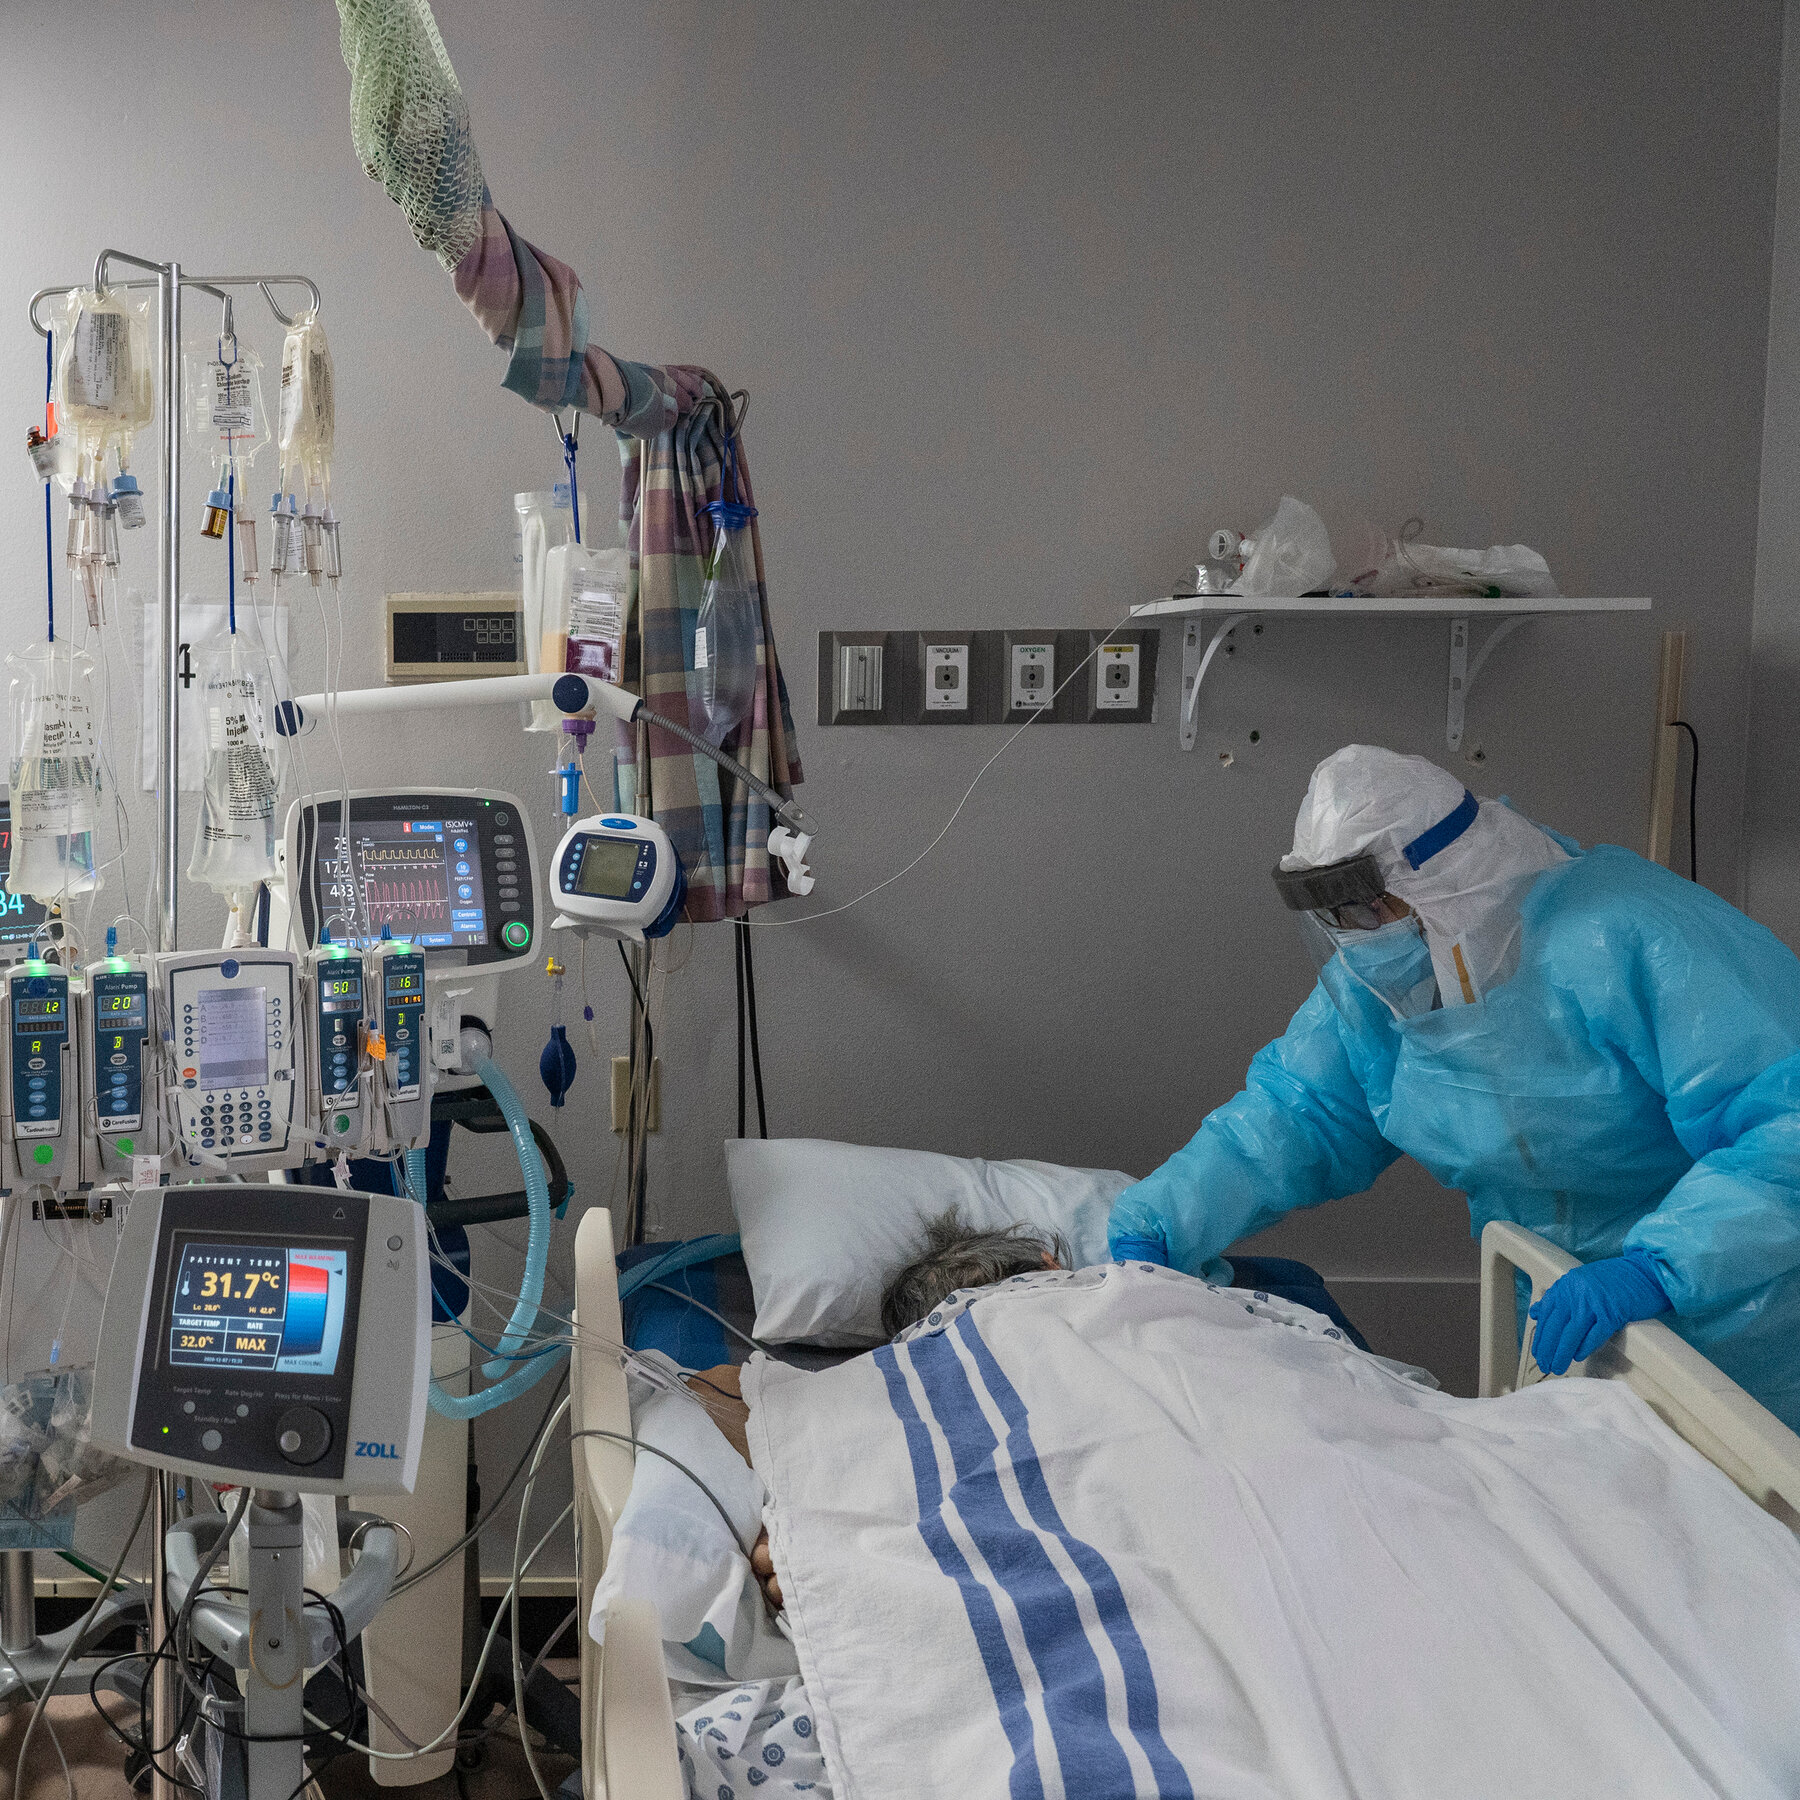bedrail: (1475, 1220, 1800, 1563), (567, 1204, 691, 1800)
bedside_monitor: (90, 1180, 434, 1496)
breathing_tube: (421, 1021, 732, 1425)
countertop: (1125, 573, 1655, 739)
hospital_bed: (571, 1134, 1800, 1800)
infusion_pump: (1, 938, 434, 1191)
iv_pole: (25, 249, 347, 1800)
patient: (690, 1229, 1488, 1800)
staff: (1093, 743, 1800, 1372)
ventilator: (280, 774, 499, 1774)
